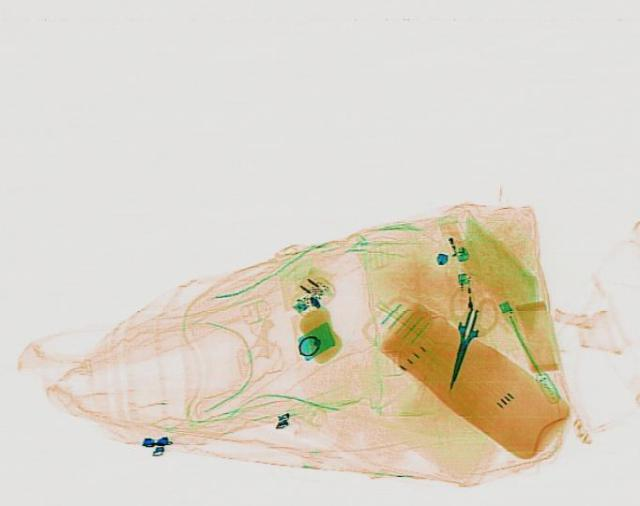Knife: (438, 303, 484, 390)
